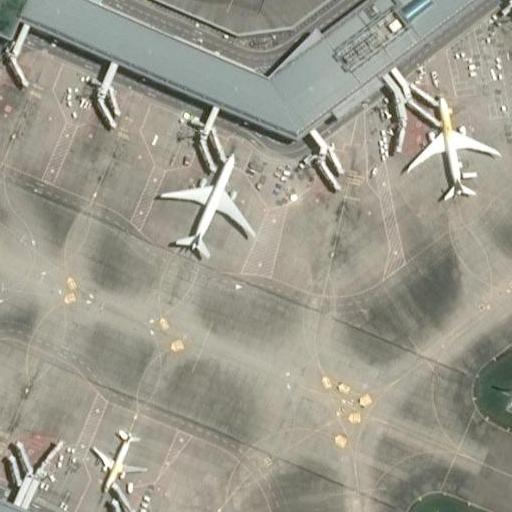Aircraft: (158, 147, 253, 257), (396, 96, 496, 199), (87, 425, 147, 492)
